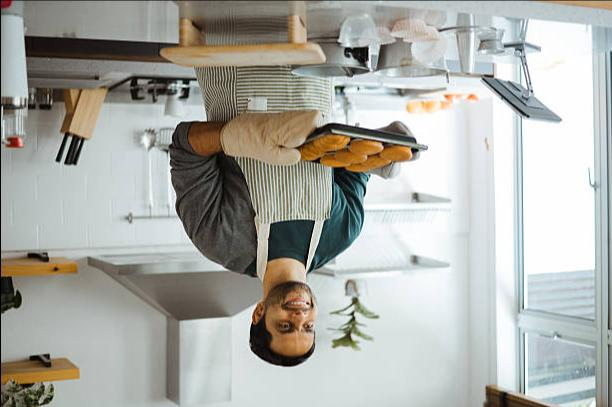Non_Gorille: (139, 25, 411, 392)
